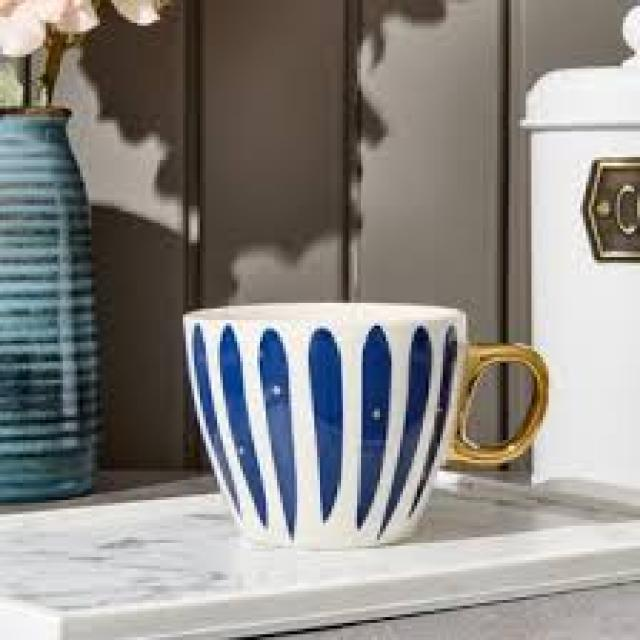taza: (184, 304, 549, 552)
